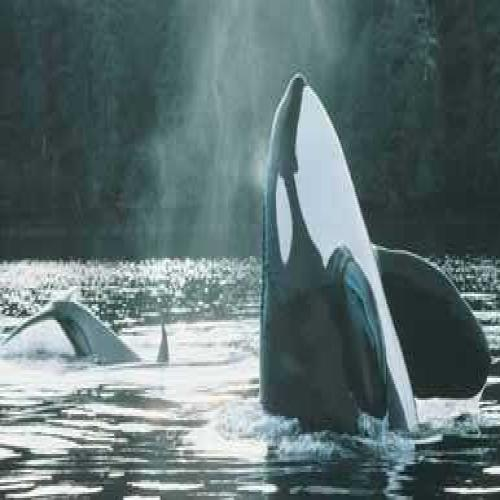killer_whale-endangered: (250, 46, 494, 464), (11, 260, 180, 394)
